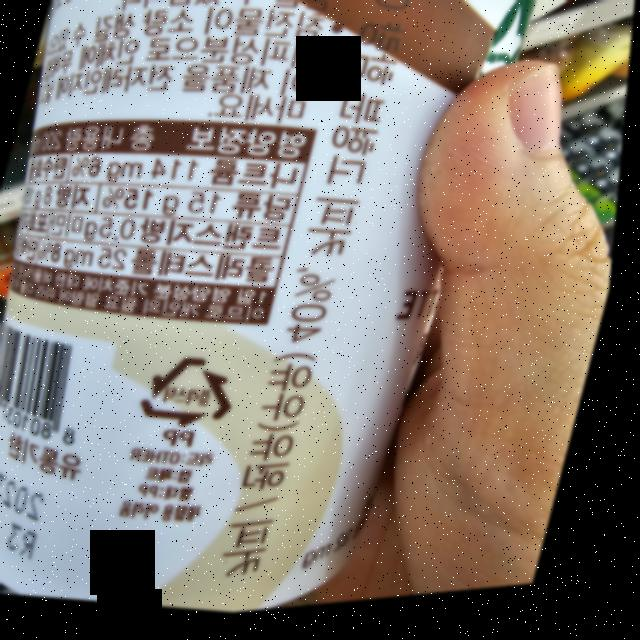Plastic: (140, 346, 255, 443)
